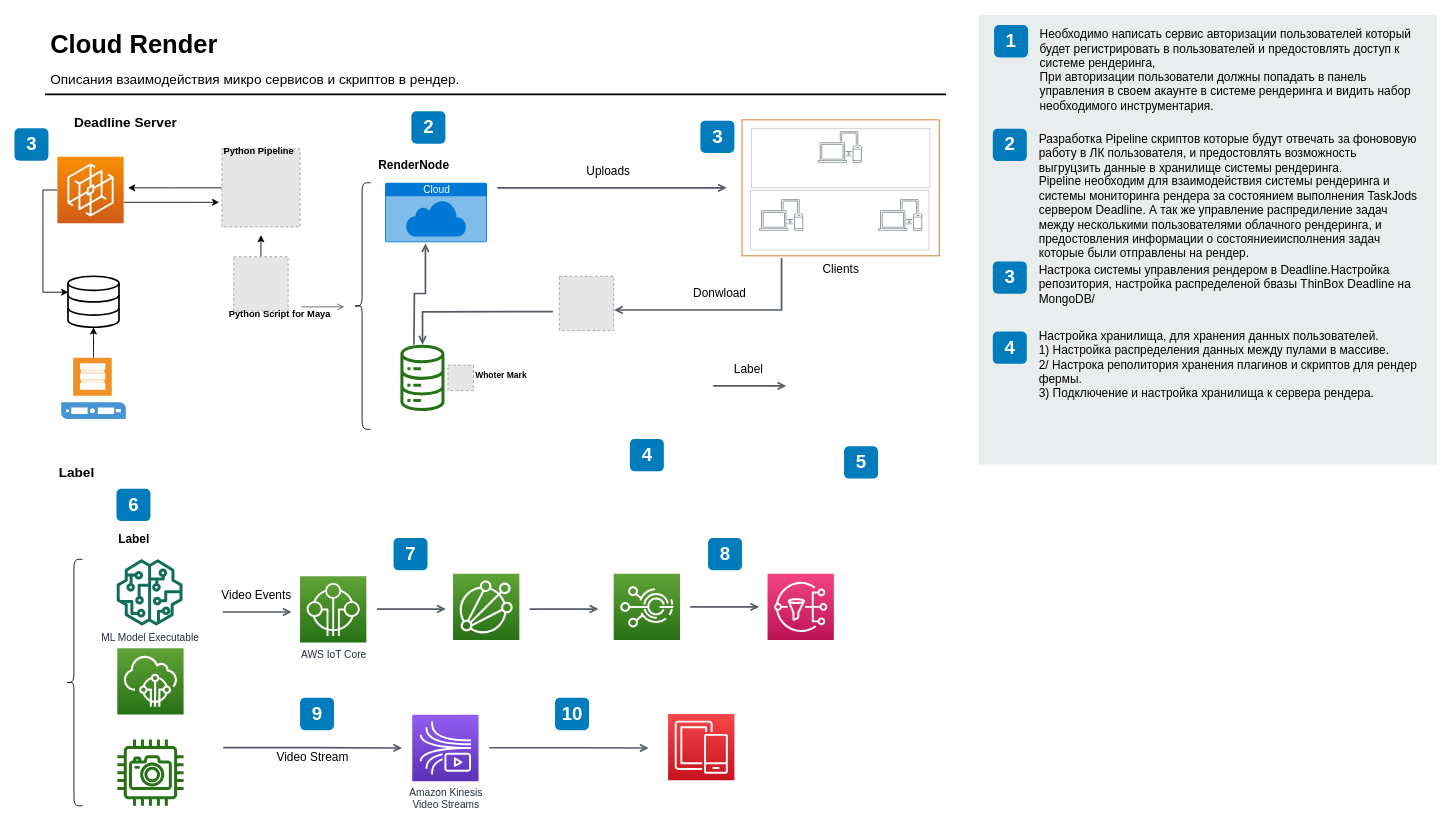
Image size: 1452x838. Some labels were removed from this diagram. Grey dashed boxes stand in for pictures. Here are the shapes that lost their labels. From the top down, the box of each, then its label:
(57, 156, 124, 223): Deadline
(61, 357, 125, 419): Repository
(399, 344, 445, 411): Datastore
(452, 573, 519, 640): AWS IoT Analytics
(613, 573, 680, 640): AWS IoT Events
(767, 573, 834, 640): Amazon SNS
(116, 647, 184, 714): AWS IoT Greengrass Core
(667, 713, 734, 780): Mobile Application
(117, 739, 183, 805): Video Camera
